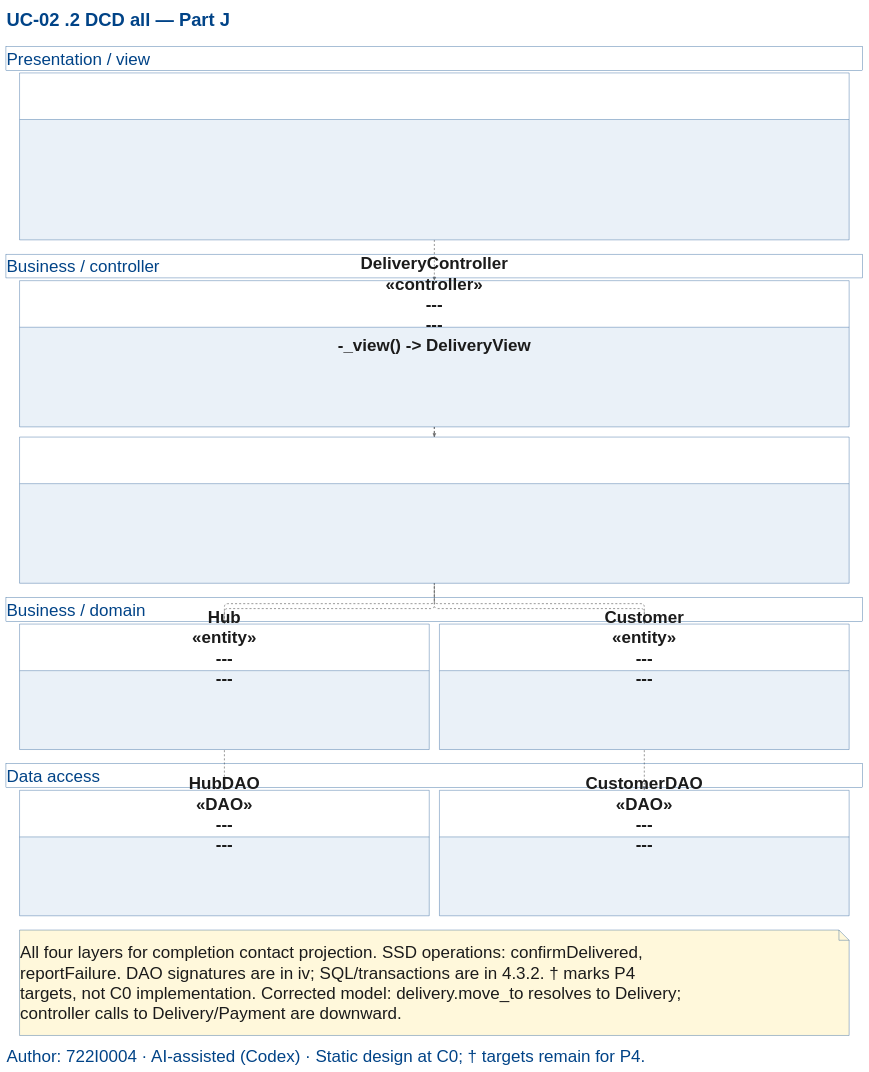
This 869x1072 diagram has some shape labels left out. The shapes that lost their labels are listed below. From the top down, each one's centre as x and y in pixels, then its label:
the point at 434,156: delivery «view» --- --- +delivered() * +failed() *
the point at 434,510: DeliveryView «value» --- --- +cash_to_collect: int
